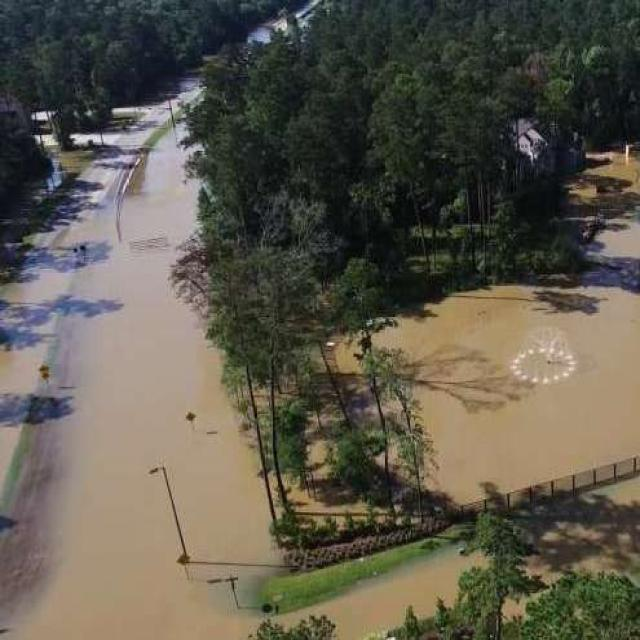flooded_areas: (96, 122, 627, 639)
